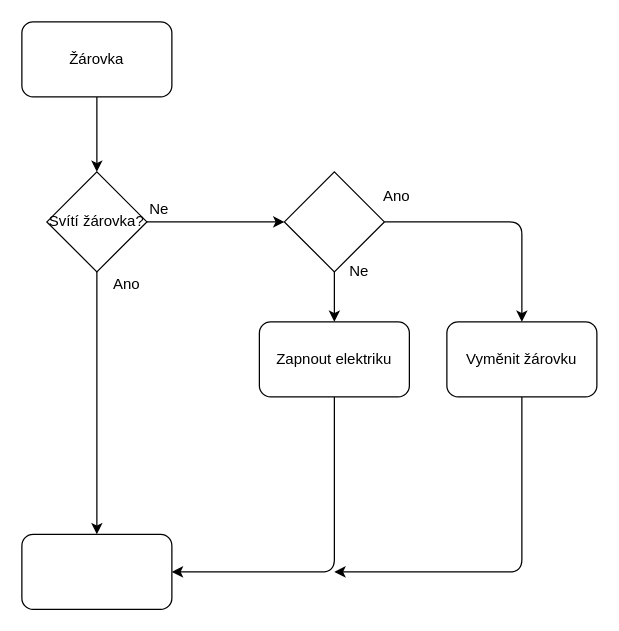
Image size: 619x631. Some labels were removed from this diagram. The shapes that lost their labels are listed below. From the top down, each one's centre as x and y in pixels, then its label:
At [333,221]: "Je zapnutá elektrika".
At [96,571]: "Problém vyřešen".
